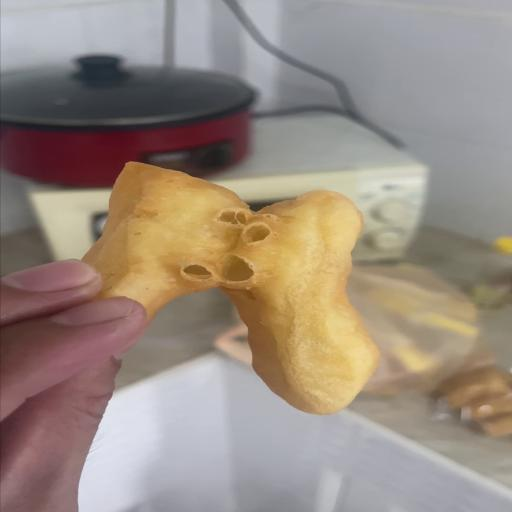street_golden_defect: (86, 164, 376, 414)
